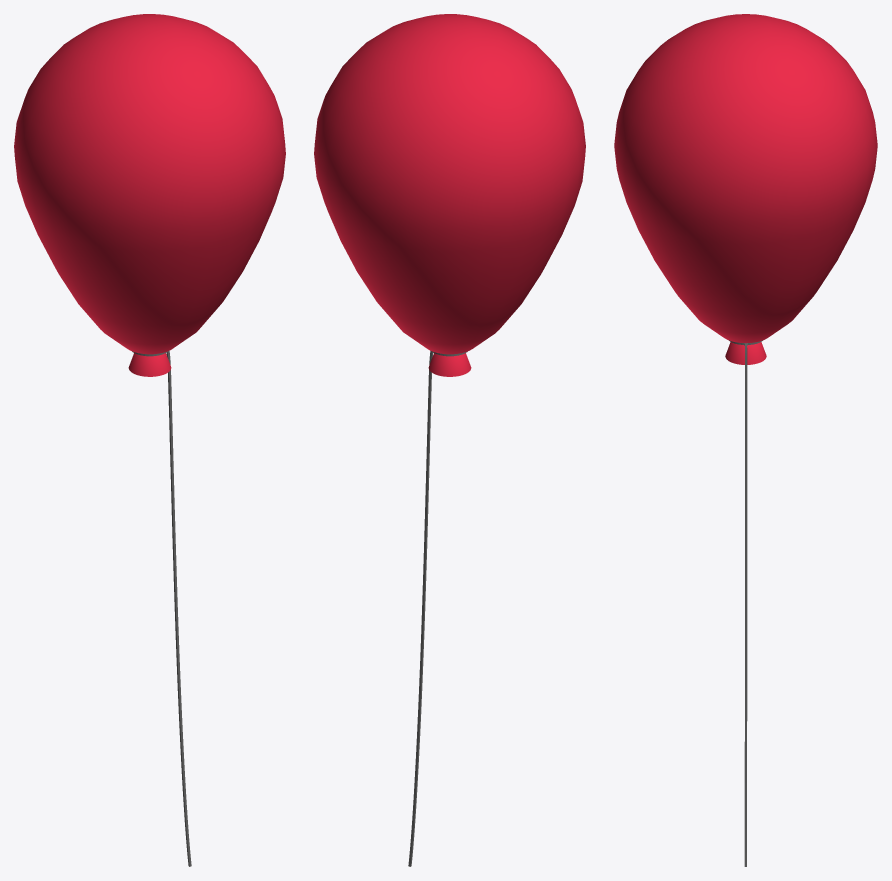
File: balloon.fbx
3 renders of one model, left to right at view 1: azimuth 30°, elevation 25°; view 2: azimuth 150°, elevation 25°; view 3: azimuth 270°, elevation 25°, orthographic. The views are drawn at different scales.
Visible parts, largest first — view 1: 球, 円; view 2: 球, 円; view 3: 球, 円.
Part boxes in pixels (box(x1,y1,x2,y2)): 球: box(14, 14, 285, 376); 円: box(132, 350, 191, 866); 球: box(314, 14, 585, 376); 円: box(408, 350, 467, 866); 球: box(614, 14, 877, 364); 円: box(729, 340, 762, 866).
Size of the model in its own units: 2 by 6.88 by 2.
